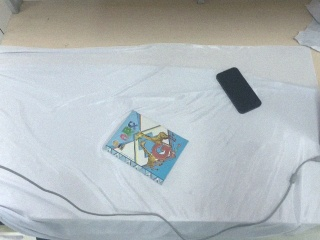book: (102, 109, 189, 185)
phone: (215, 67, 262, 115)
